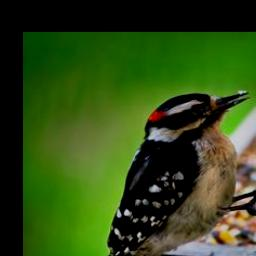Woodpecker: (93, 90, 256, 256)
